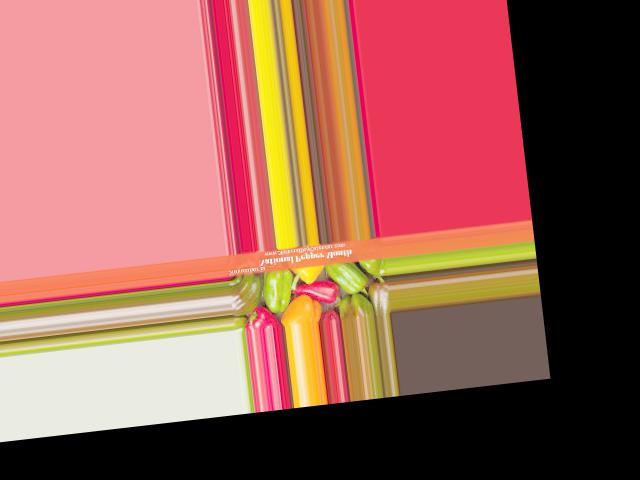bell_pepper: (228, 272, 264, 316)
